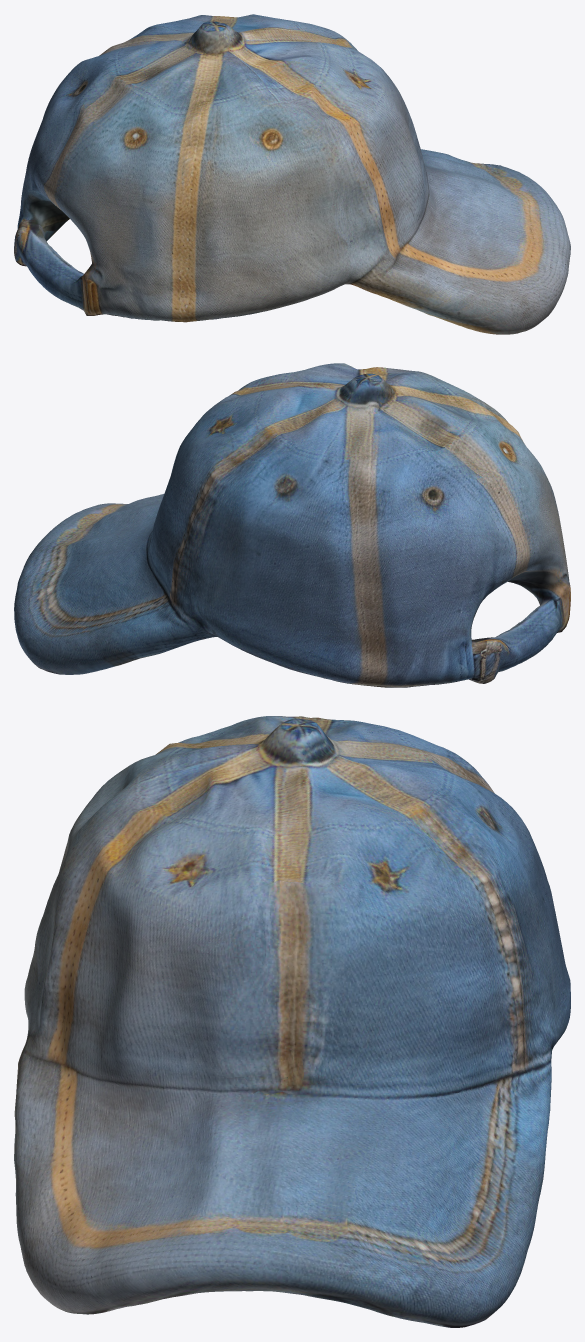
Rendered from cap.glb.
The picture shows the model from 3 angles, top to bottom: view 1: azimuth 30°, elevation 25°; view 2: azimuth 150°, elevation 25°; view 3: azimuth 270°, elevation 25°; orthographic projection. The views are drawn at different scales.
Size of the model in its own units: 1.2 by 0.7068 by 0.8457.
1 material, 1 textured.
